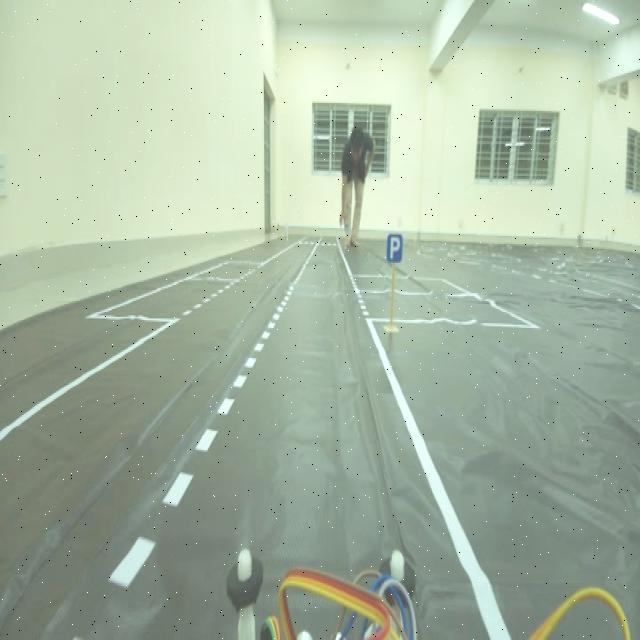parking: (384, 226, 407, 273)
